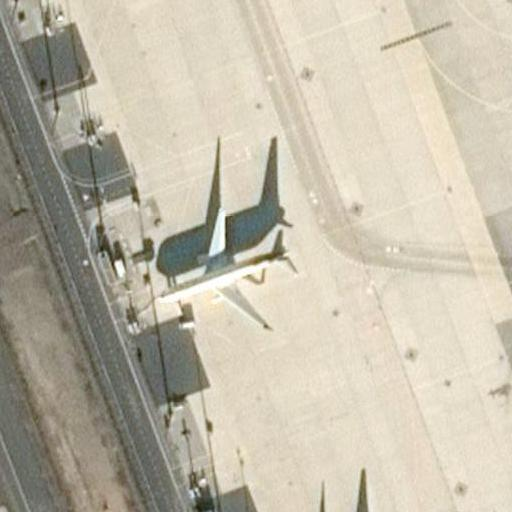Aircraft: (154, 188, 299, 333), (155, 208, 298, 332)
